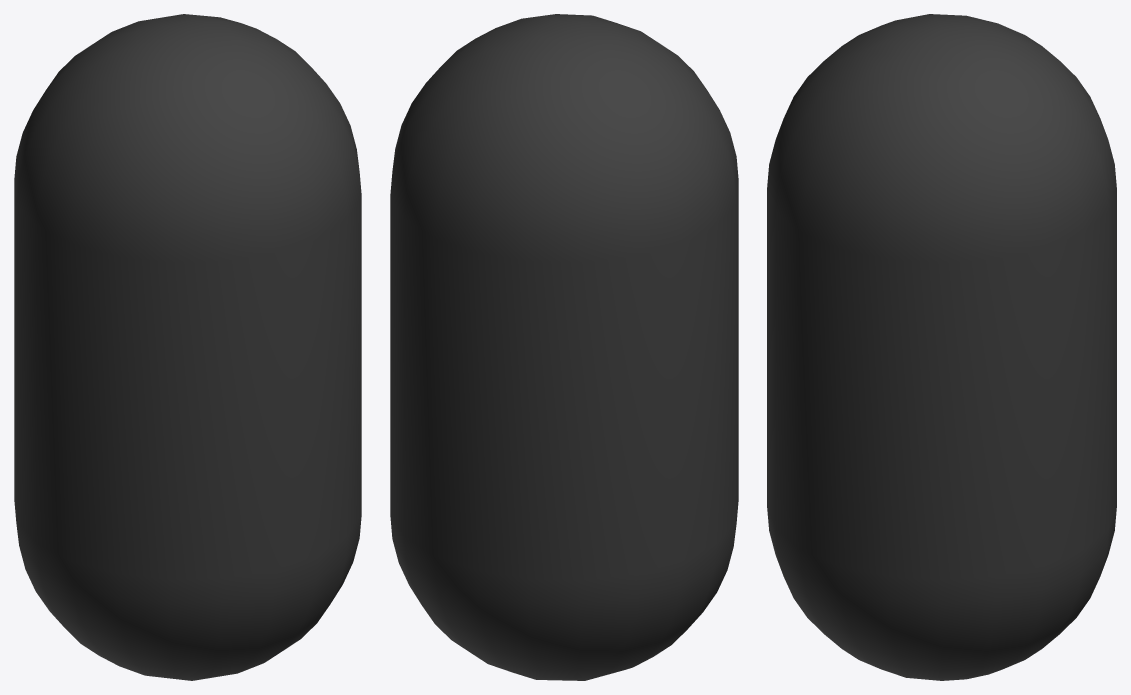
The picture shows the model from 3 angles, left to right: view 1: azimuth 30°, elevation 25°; view 2: azimuth 150°, elevation 25°; view 3: azimuth 270°, elevation 25°; orthographic projection.
Parts seen in each view (by area): view 1: a381ca30a621_10205_polySurface2.obj; view 2: a381ca30a621_10205_polySurface2.obj; view 3: a381ca30a621_10205_polySurface2.obj.
Part boxes in pixels (x1,y1,x2,y2): a381ca30a621_10205_polySurface2.obj: (14, 14, 361, 680); a381ca30a621_10205_polySurface2.obj: (390, 14, 738, 680); a381ca30a621_10205_polySurface2.obj: (767, 14, 1116, 680).
Bounding box in the file's own units: 2 × 4 × 2.
Materials: 1 (1 with a texture image).
